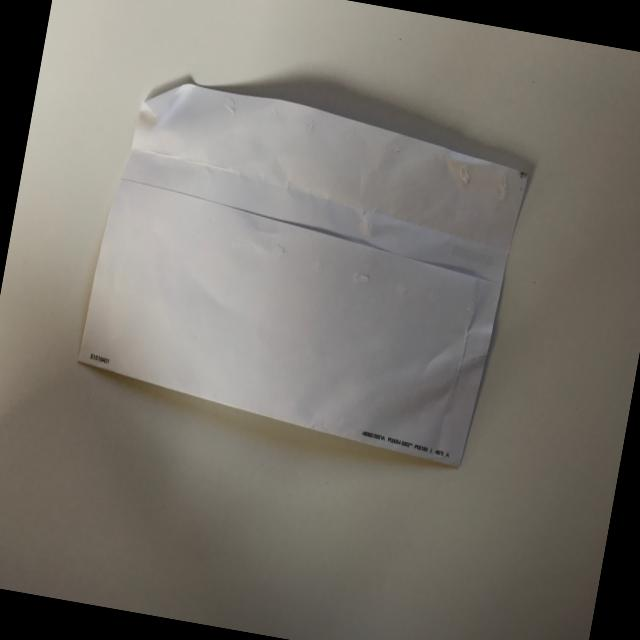Paper: (64, 58, 552, 488)
